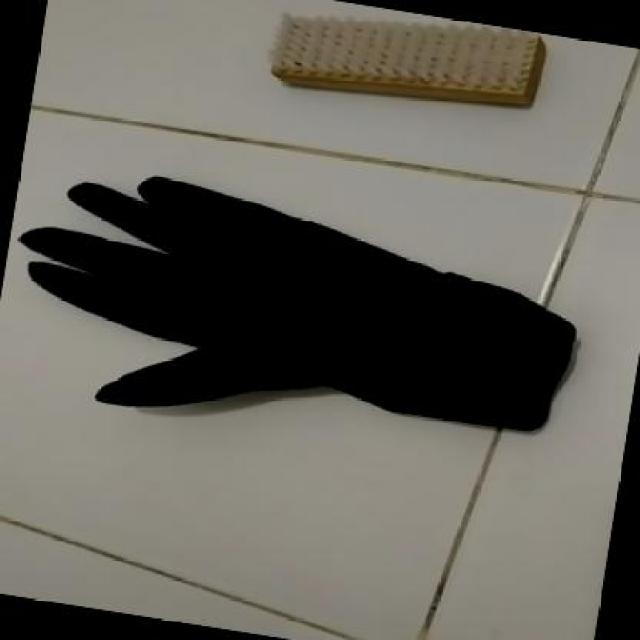gloved_hand: (4, 161, 591, 474)
